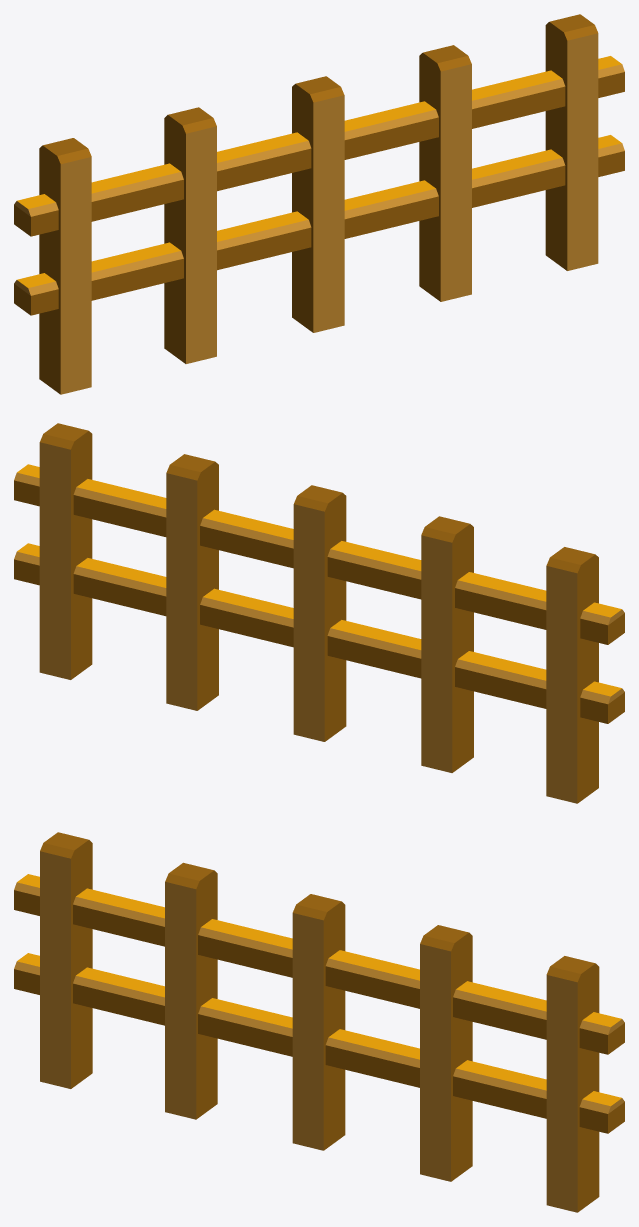
Rendered from bridge_barrier.fbx.
3 views of the same model, one above another, from view 1: azimuth 30°, elevation 25°; view 2: azimuth 150°, elevation 25°; view 3: azimuth 330°, elevation 25° (orthographic).
Visible parts, largest first — view 1: bridge_barrier; view 2: bridge_barrier; view 3: bridge_barrier.
Part boxes in pixels (bbox=[...]): bridge_barrier: bbox=[14, 14, 624, 394]; bridge_barrier: bbox=[14, 423, 624, 803]; bridge_barrier: bbox=[14, 832, 624, 1212].
Bounding box in the file's own units: 38.34 × 14.57 × 2.41.
